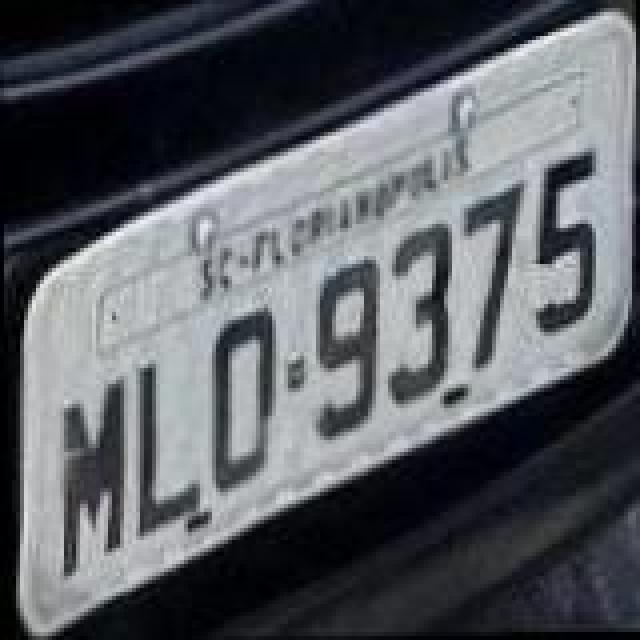3: (380, 224, 460, 408)
5: (526, 144, 602, 336)
7: (456, 184, 528, 376)
9: (308, 258, 388, 442)
L: (130, 358, 206, 534)
M: (54, 378, 130, 582)
O: (204, 304, 280, 496)
